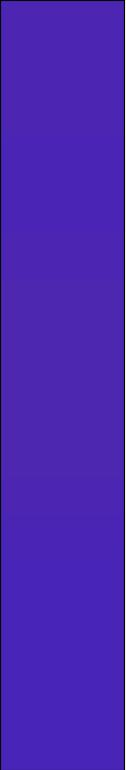safe: (10, 11, 115, 754)
